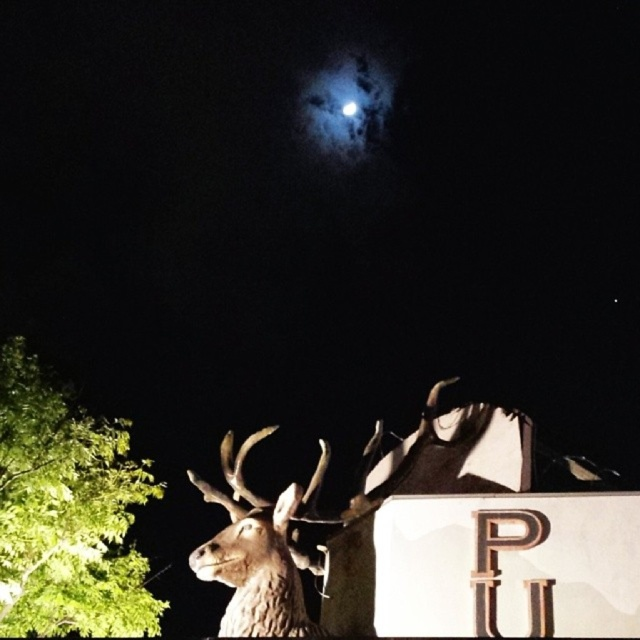Deer: (188, 372, 496, 639)
